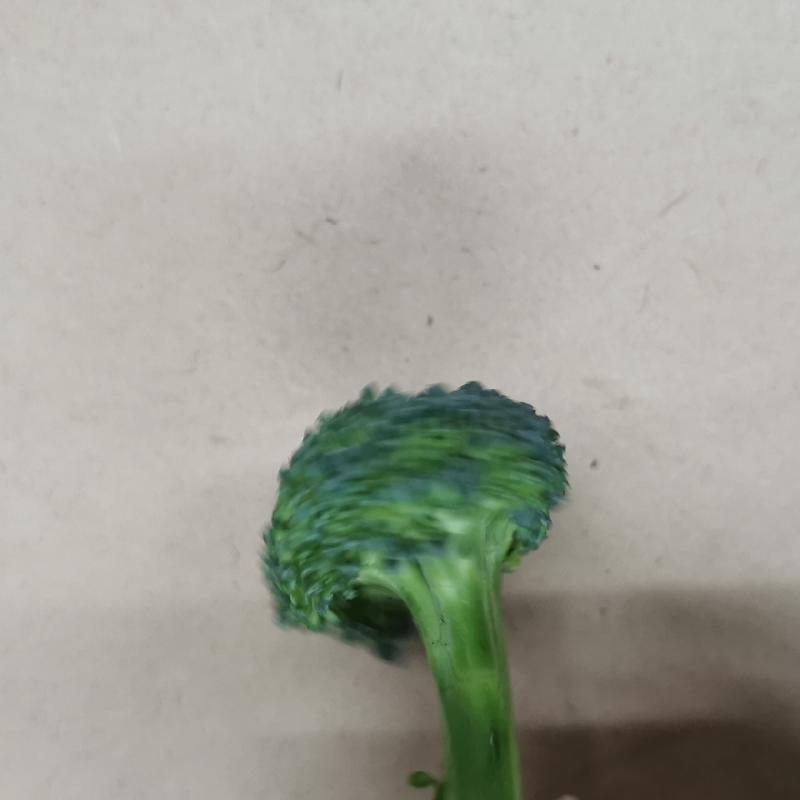broccoli: (255, 378, 576, 800)
